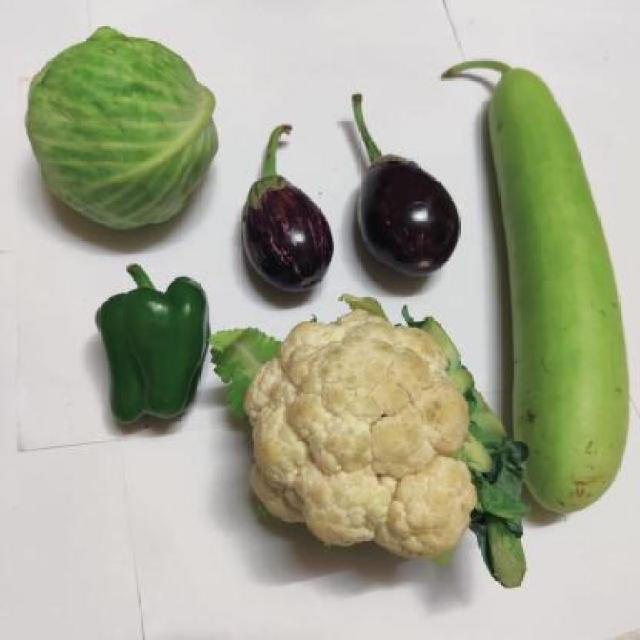Brinjal: (352, 94, 463, 272), (245, 124, 332, 294)
Cabbage: (26, 29, 220, 232)
Calabash: (502, 68, 630, 510)
Capsicum: (99, 268, 210, 423)
Cauliflower: (212, 302, 517, 560)
